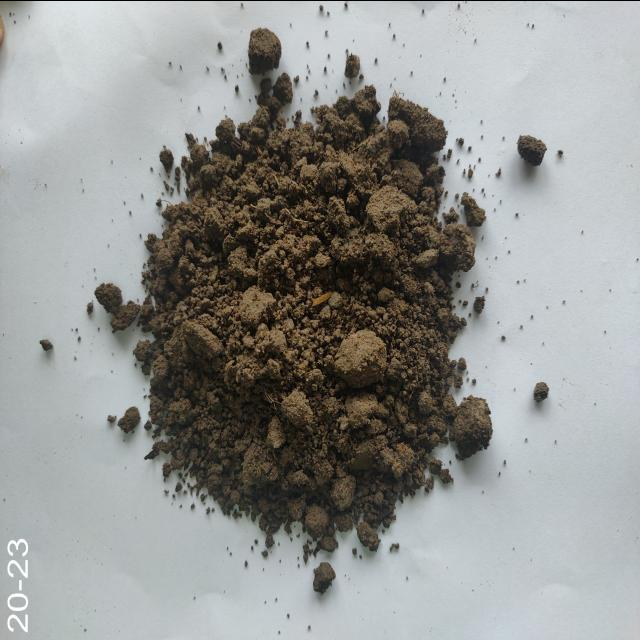soil: (177, 158, 413, 452)
